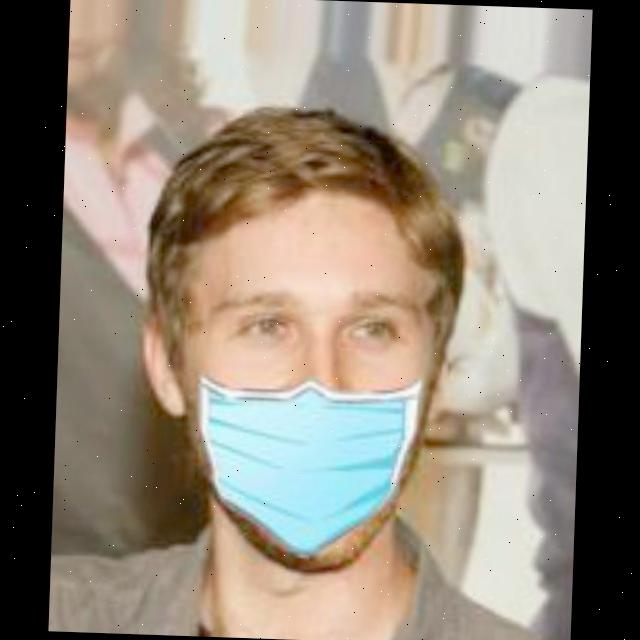suspicion: (152, 114, 478, 566)
